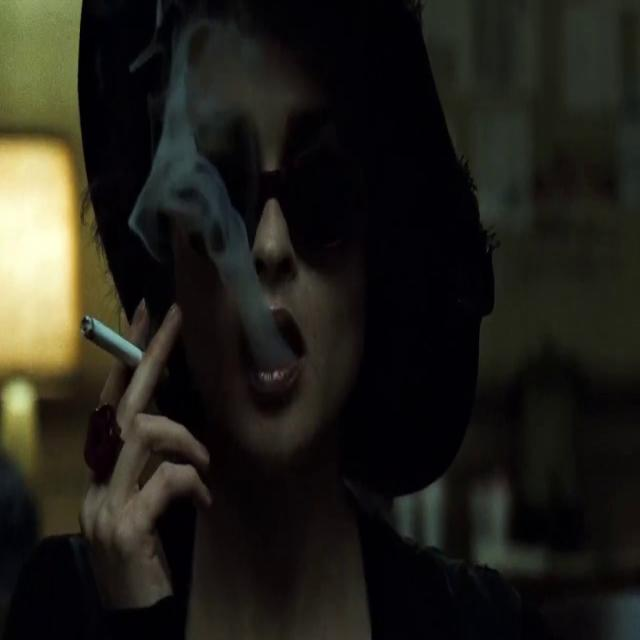Smooking: (72, 301, 153, 377)
